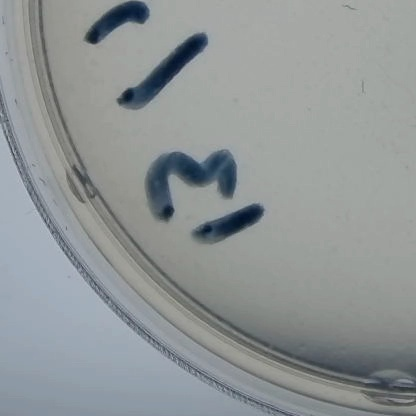worm: (349, 66, 373, 96), (398, 107, 416, 130), (337, 0, 362, 12)
